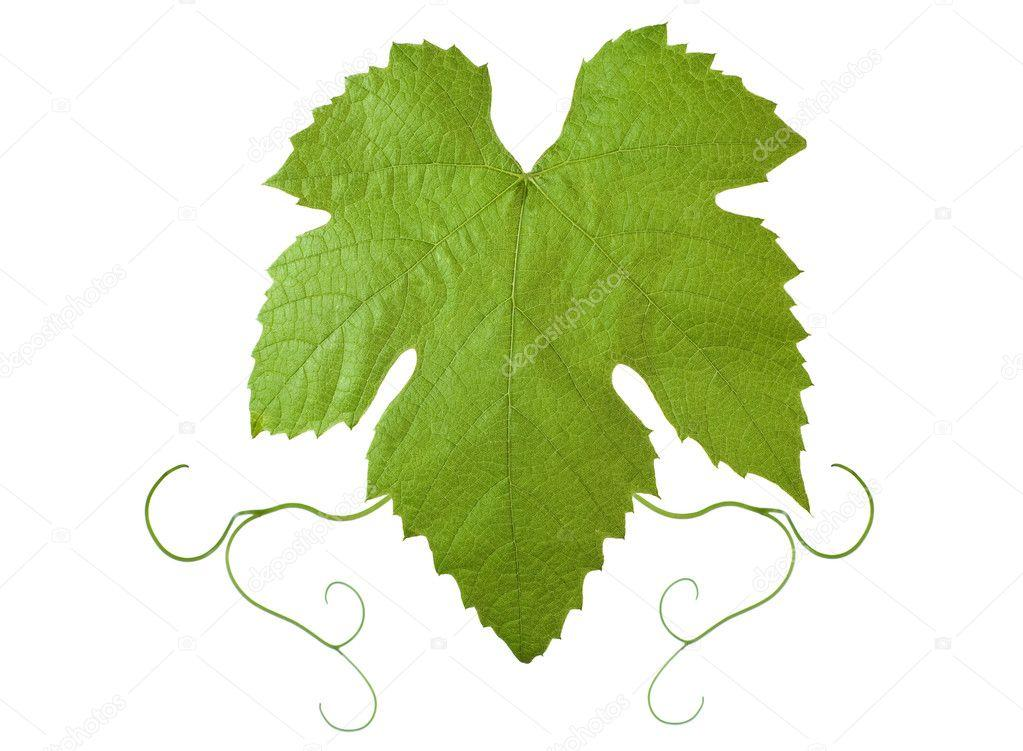grape leaf black rot: (229, 13, 828, 665)
